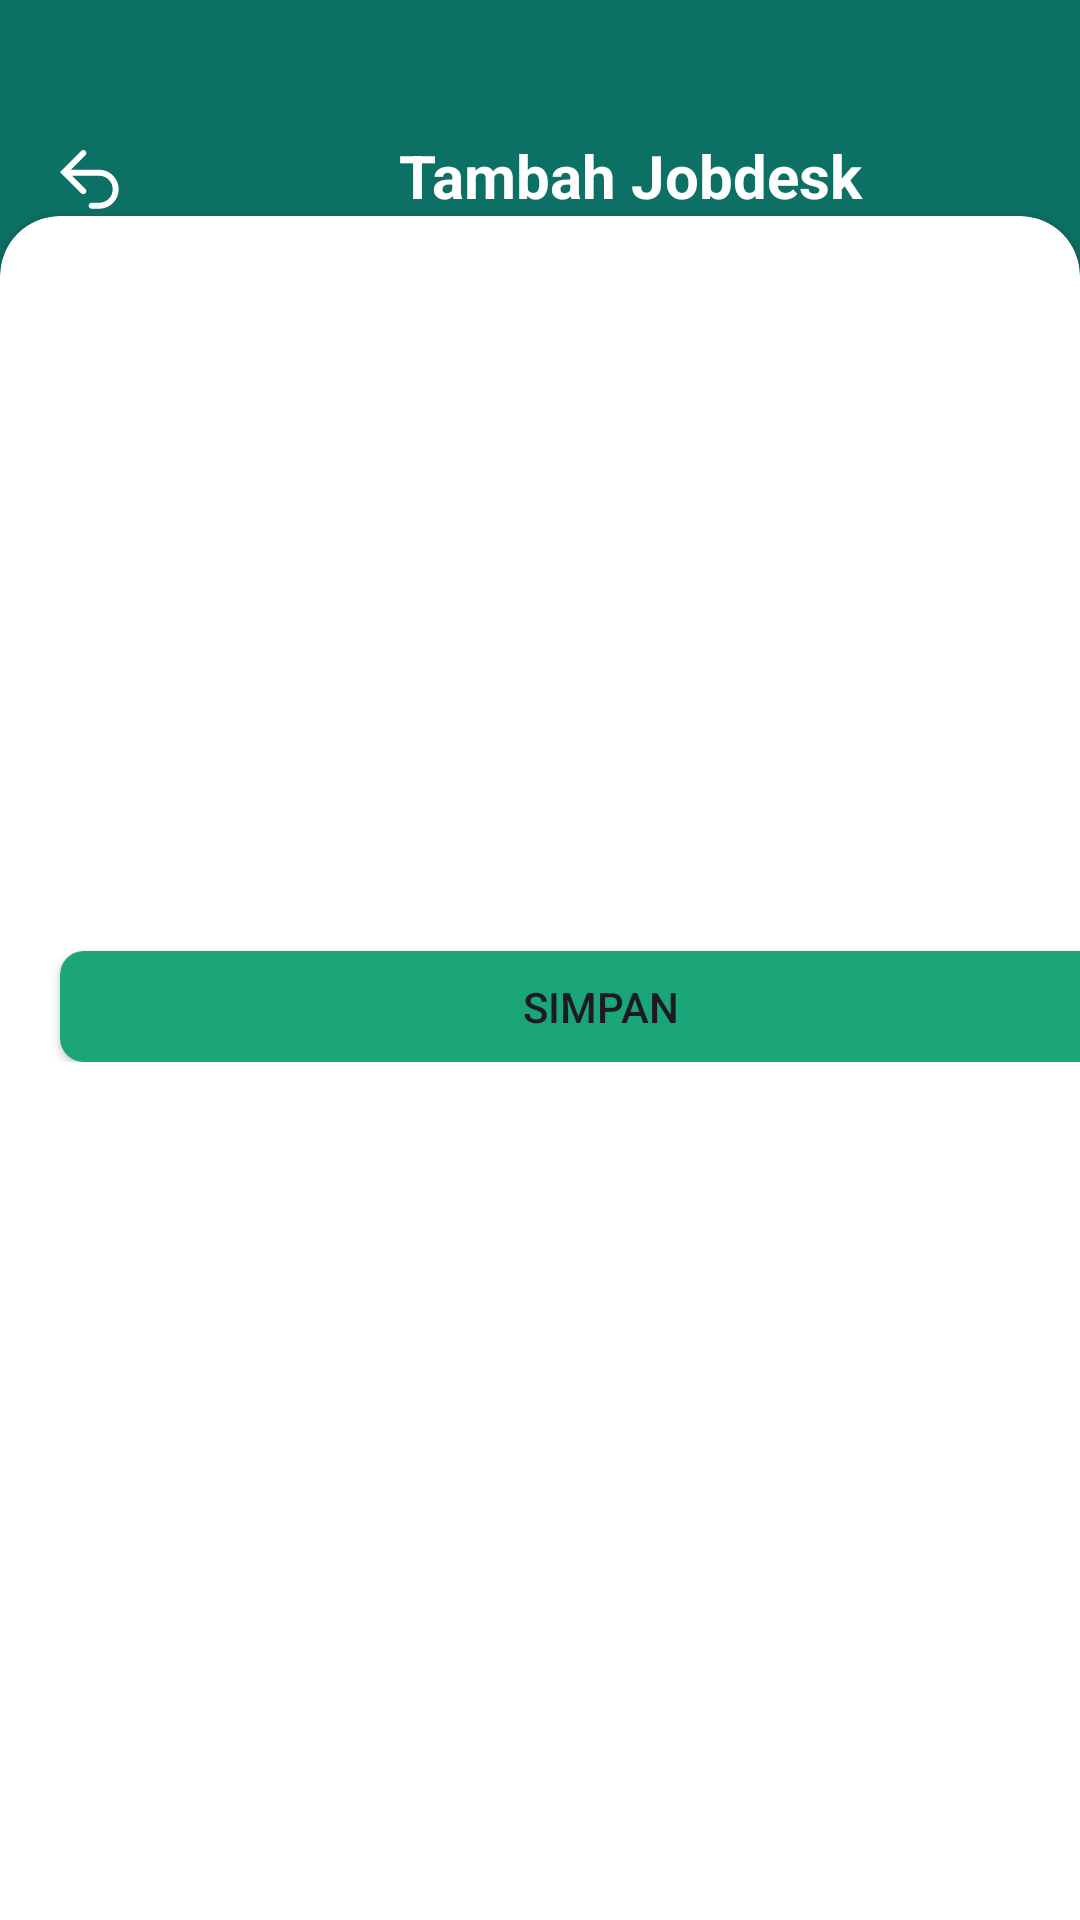

Icon click points for this 1080 x 1920 phone screenshot, format (x=x, y=y):
backbutton: (x=89, y=179)
